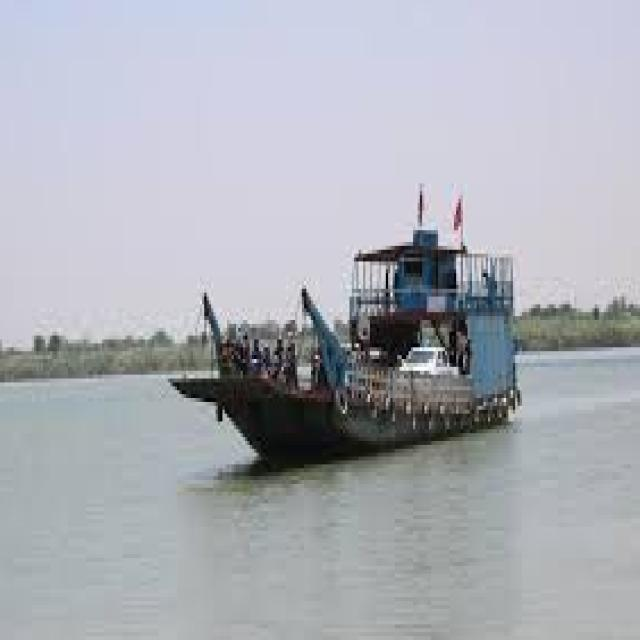cargoship: (194, 177, 538, 463)
